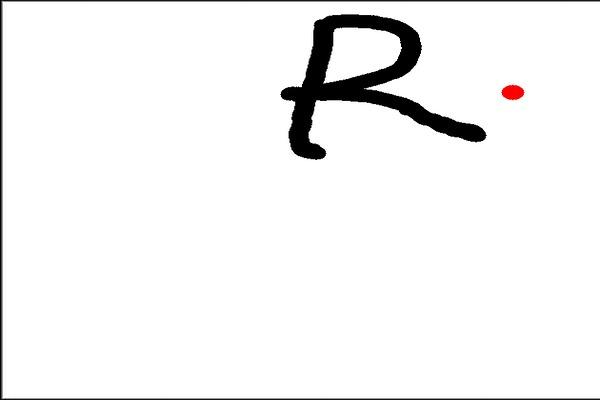R: (276, 4, 497, 165)
